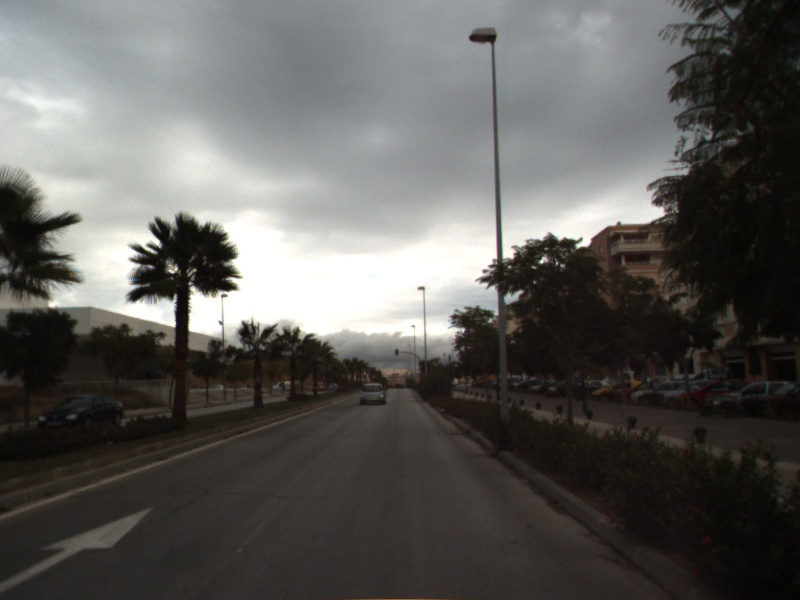STRAIGHT: (1, 504, 156, 594)
